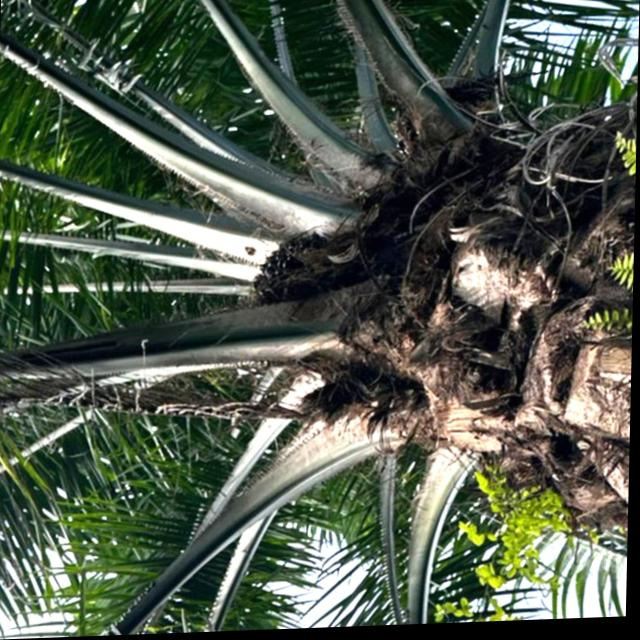almost: (243, 224, 342, 323)
